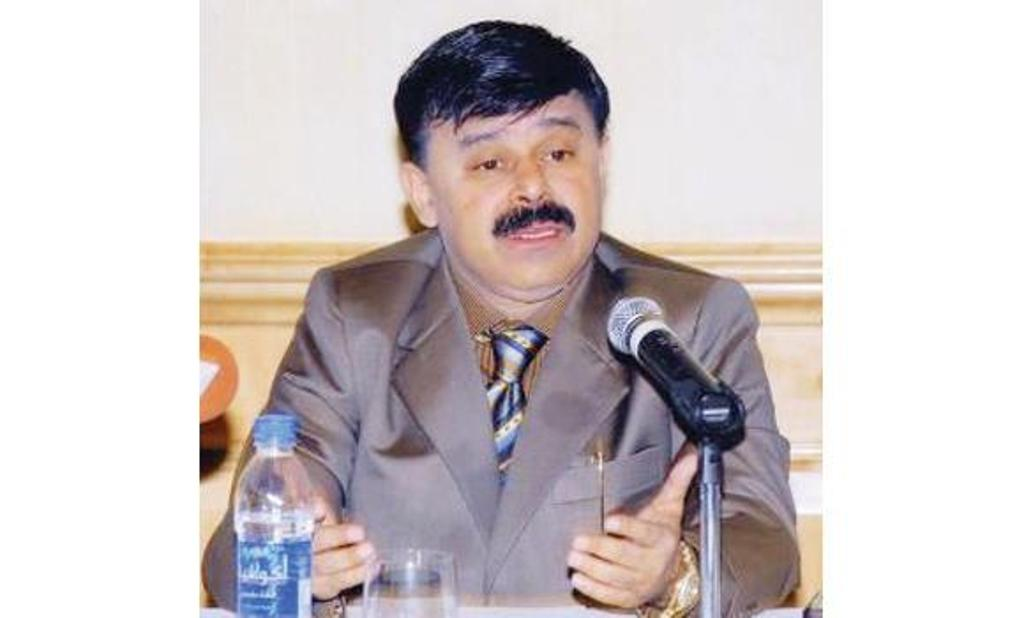face: (438, 68, 598, 280)
